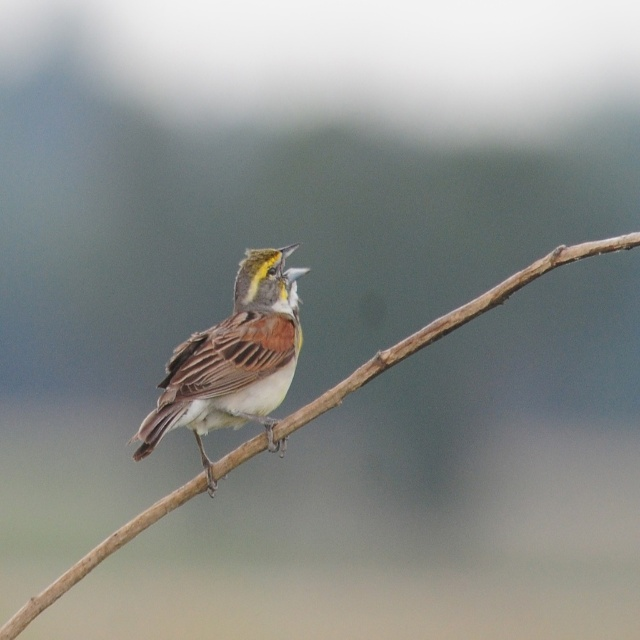Sparrow: (125, 245, 314, 499)
